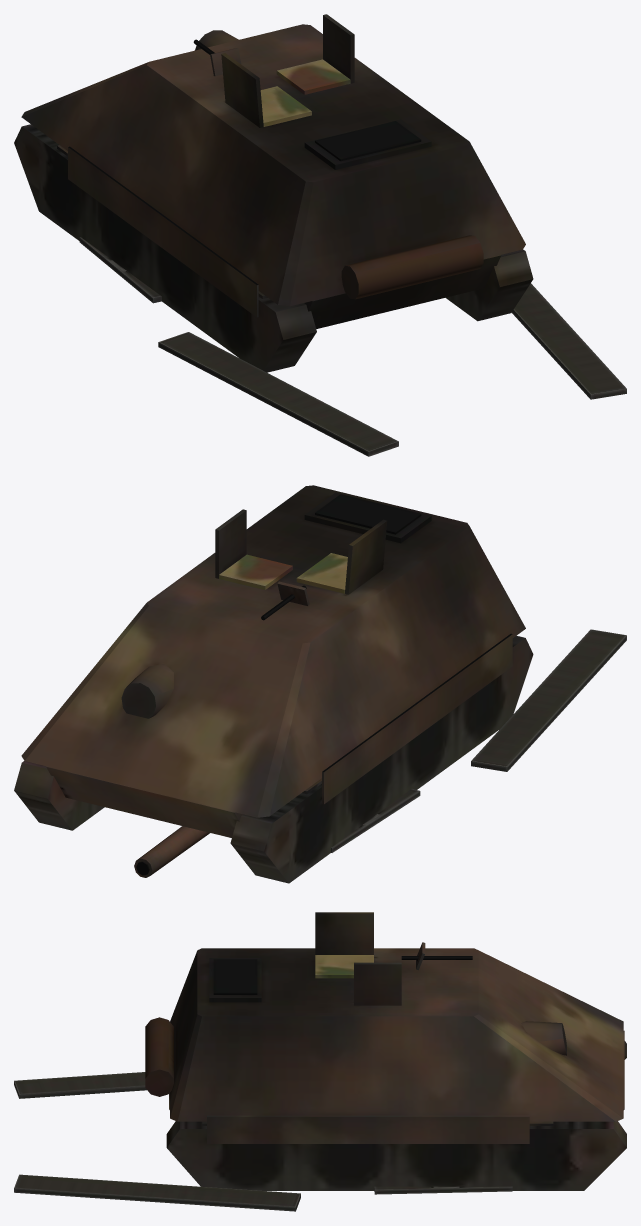
The model's file is hetzer.glb.
3 renders of one model, top to bottom at view 1: azimuth 30°, elevation 25°; view 2: azimuth 150°, elevation 25°; view 3: azimuth 270°, elevation 25°, orthographic. The views are drawn at different scales.
Parts seen in each view (by area): view 1: hull_ko, hull_trackL, hull_trackR, hull_ok; view 2: hull_ko, hull_trackL, hull_ok, gun_ko; view 3: hull_ko, hull_trackR, hull_trackL, hull_ok.
Part boxes in pixels (x1,y1,x2,y2): hull_ko: (14,14,533,372); hull_trackL: (79,237,398,456); hull_trackR: (511,283,626,399); hull_ok: (260,59,350,126); hull_ko: (14,485,533,883); hull_trackL: (331,629,626,852); hull_ok: (219,553,347,593); gun_ko: (134,826,209,877); hull_ko: (145,912,626,1190); hull_trackR: (14,1174,512,1211); hull_trackL: (14,1072,146,1098); hull_ok: (315,955,373,978).
Size of the model in its own units: 3.63 by 2.71 by 6.46.
16 materials, 16 textured.
